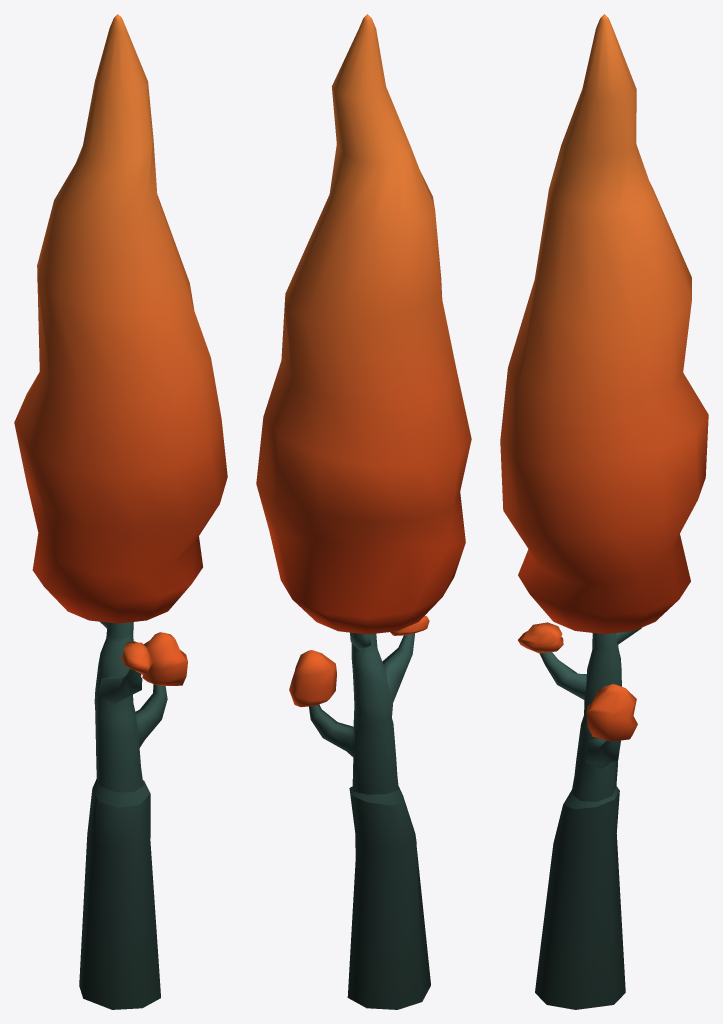
The model's file is TREE_01.fbx.
The picture shows the model from 3 angles, left to right: view 1: azimuth 30°, elevation 25°; view 2: azimuth 150°, elevation 25°; view 3: azimuth 270°, elevation 25°; orthographic projection.
Parts seen in each view (by area): view 1: TREE_MAIN_LEAVES, TREE, TREE_SMALL_LEAVES, TREE_TINY_LEAVES; view 2: TREE_MAIN_LEAVES, TREE, TREE_SMALL_LEAVES; view 3: TREE_MAIN_LEAVES, TREE, TREE_SMALL_LEAVES, TREE_TINY_LEAVES.
Boxes of the visible parts, box(x1,y1,x2,y2) form: TREE_MAIN_LEAVES: box(14, 14, 227, 623); TREE: box(79, 621, 167, 1009); TREE_SMALL_LEAVES: box(142, 632, 187, 685); TREE_TINY_LEAVES: box(121, 641, 152, 674); TREE_MAIN_LEAVES: box(256, 14, 471, 634); TREE: box(309, 632, 430, 1009); TREE_SMALL_LEAVES: box(289, 650, 336, 706); TREE_MAIN_LEAVES: box(500, 14, 708, 634); TREE: box(535, 627, 641, 1009); TREE_SMALL_LEAVES: box(586, 684, 637, 741); TREE_TINY_LEAVES: box(518, 622, 563, 653).
Bounding box in the file's own units: 1.55 × 7.7 × 1.48.
